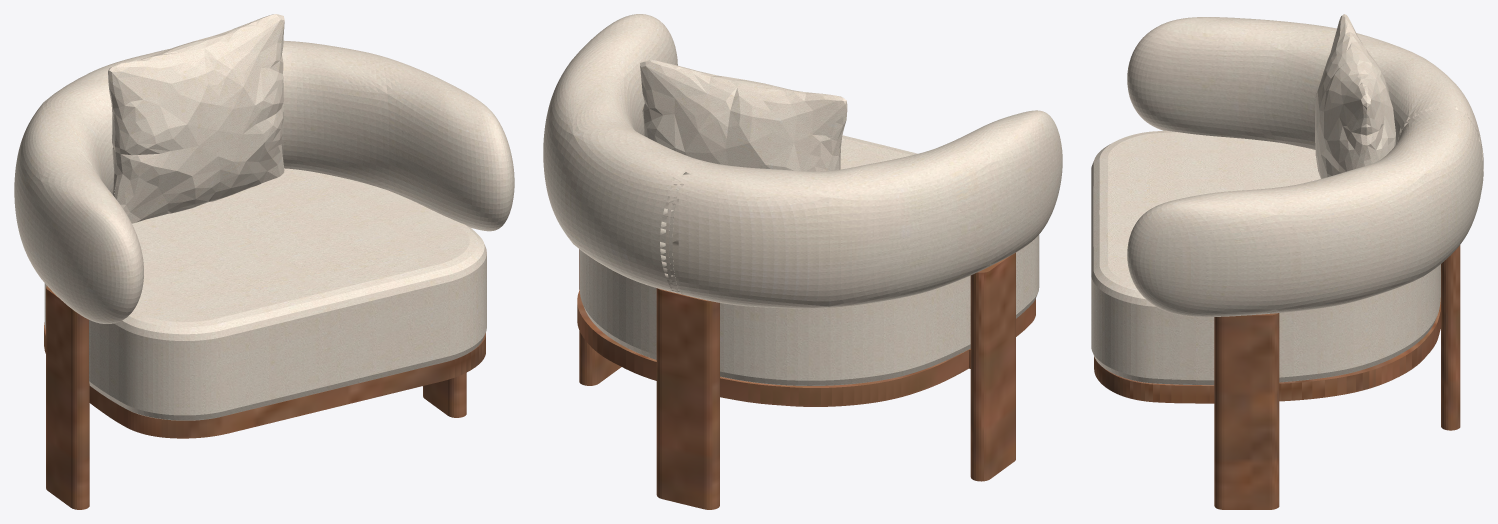
Rendered from poltrona_turin_studyo4_agave_casa.glb.
3 views of the same model, side by side, from view 1: azimuth 30°, elevation 25°; view 2: azimuth 150°, elevation 25°; view 3: azimuth 270°, elevation 25° (orthographic). The views are drawn at different scales.
Visible parts, largest first — view 1: Group1, Group4, Group6, Group7, Group2; view 2: Group1, Group6, Group2, Group7; view 3: Group1, Group6, Group4, Group7, Group2.
Boxes of the visible parts, x1,y1,x2,y2 form: Group1: (14,40,514,420); Group4: (108,14,284,223); Group6: (46,286,466,509); Group7: (44,322,485,438); Group2: (108,14,273,196); Group1: (543,14,1062,385); Group6: (579,249,1015,509); Group2: (640,59,847,171); Group7: (577,289,1035,406); Group1: (1091,17,1483,385); Group6: (1214,245,1460,509); Group4: (1315,14,1367,178); Group7: (1094,298,1440,403); Group2: (1344,14,1395,165).
Bounding box in the file's own units: 0.8886 × 0.7344 × 0.7242.
4 materials, 2 textured.
